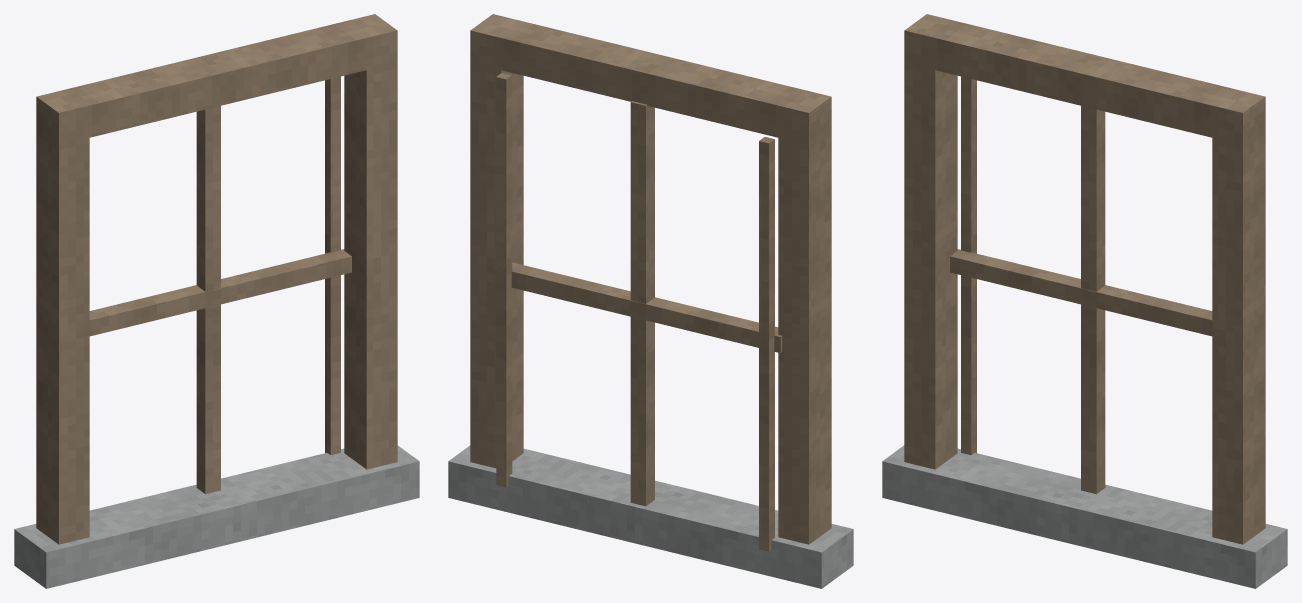
Rendered from level_blockout_structural_window_frame.glb.
The picture shows the model from 3 angles, left to right: view 1: azimuth 30°, elevation 25°; view 2: azimuth 150°, elevation 25°; view 3: azimuth 330°, elevation 25°; orthographic projection.
Parts seen in each view (by area): view 1: level_blockout_structural_window_frame; view 2: level_blockout_structural_window_frame; view 3: level_blockout_structural_window_frame.
Part boxes in pixels (x1,y1,x2,y2): level_blockout_structural_window_frame: (14, 14, 419, 588); level_blockout_structural_window_frame: (448, 14, 853, 588); level_blockout_structural_window_frame: (882, 14, 1287, 588).
Bounding box in the file's own units: 1.82 × 2.18 × 0.29.
2 materials, 2 textured.
